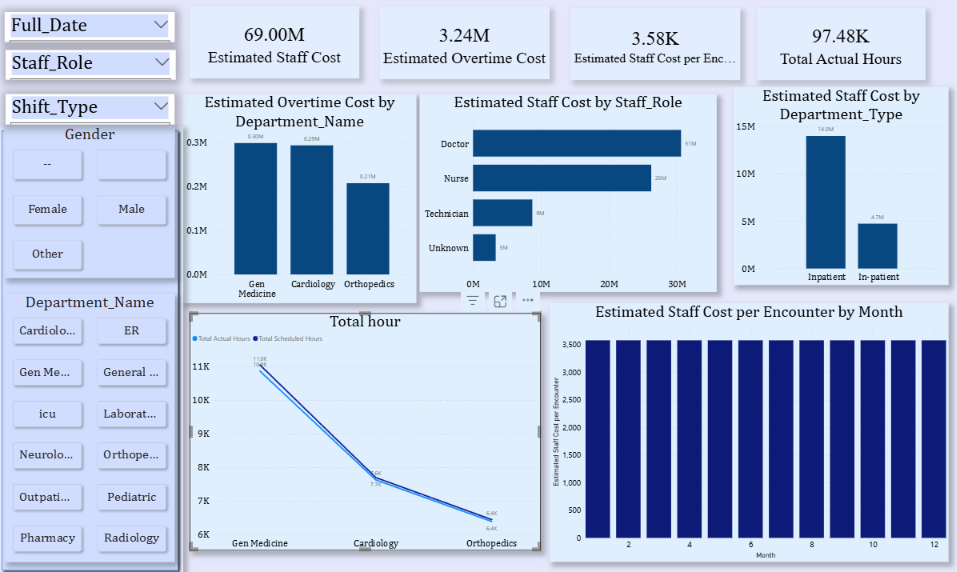

The dashboard page shown, as its layout file describes it:
{"tool":"powerbi","page":{"name":"Page Financial & Operational Performance","canvas":[2000,1200],"ordinal":4},"visuals":[{"type":"card","fields":{"Values":["healthcare bed_occupancy_clean.Estimated Staff Cost"]},"box":[398.7,20,351.9,149.2],"z":8000},{"type":"card","fields":{"Values":["healthcare bed_occupancy_clean.Estimated Overtime Cost"]},"box":[792.9,22.3,351.9,149.2],"z":9000},{"type":"card","fields":{"Values":["healthcare bed_occupancy_clean.Estimated Staff Cost per Encounter"]},"box":[1187.1,24.5,351.9,149.2],"z":10000},{"type":"card","fields":{"Values":["healthcare bed_occupancy_clean.Total Actual Hours"]},"box":[1574.6,24.5,349.7,149.2],"z":11000},{"type":"clusteredColumnChart","fields":{"Category":["healthcare departments_clean.Department_Type"],"Y":["healthcare bed_occupancy_clean.Estimated Staff Cost"]},"box":[1525.9,188.7,445.8,410.5],"z":12000},{"type":"clusteredColumnChart","fields":{"Category":["healthcare departments_clean.Department_Name"],"Y":["healthcare bed_occupancy_clean.Estimated Overtime Cost"]},"box":[383.6,203.2,485.1,433.3],"z":13000},{"type":"clusteredColumnChart","fields":{"Category":["healthcare calendar_clean.Month"],"Y":["healthcare bed_occupancy_clean.Estimated Staff Cost per Encounter"]},"box":[1144.4,636.5,827.2,537],"z":14000},{"type":"shape","box":[0,269.5,383.8,930.5],"z":15000},{"type":"slicer","fields":{"Values":["healthcare calendar_clean.Full_Date"]},"box":[14.5,33.2,352.5,62.2],"z":18000},{"type":"advancedSlicerVisual","fields":{"Values":["healthcare departments_clean.Department_Name"]},"box":[14.5,617.8,352.5,555.6],"z":20000},{"type":"advancedSlicerVisual","fields":{"Values":["healthcare patients_clean.Gender"]},"box":[14.5,269.5,352.5,315.1],"z":22000},{"type":"slicer","fields":{"Values":["healthcare staff_clean.Staff_Role"]},"box":[17.5,111.7,352.7,61.3],"z":23000},{"type":"slicer","fields":{"Values":["healthcare staffing_requirements_clean.Shift_Type"]},"box":[17.5,203.7,350.5,63.5],"z":24000},{"type":"clusteredBarChart","fields":{"Category":["healthcare staff_clean.Staff_Role"],"Y":["healthcare bed_occupancy_clean.Estimated Staff Cost"]},"box":[874.9,203.2,615.8,410.5],"z":25000},{"type":"lineChart","title":"Total hour","fields":{"Category":["healthcare departments_clean.Department_Name"],"Y":["healthcare bed_occupancy_clean.Total Actual Hours","healthcare bed_occupancy_clean.Total Scheduled Hours"]},"box":[398.1,657.2,727.7,493.4],"z":26000}]}

Visuals, with their boxes in screenshot pixels (x1, y1, x2, y2), scaled from the page's 2000x1200 canvas onto the 957x572 screenshot:
card - healthcare bed_occupancy_clean.Estimated Staff Cost: (191, 10, 359, 81)
card - healthcare bed_occupancy_clean.Estimated Overtime Cost: (379, 11, 548, 82)
card - healthcare bed_occupancy_clean.Estimated Staff Cost per Encounter: (568, 12, 736, 83)
card - healthcare bed_occupancy_clean.Total Actual Hours: (753, 12, 921, 83)
clusteredColumnChart - healthcare departments_clean.Department_Type x healthcare bed_occupancy_clean.Estimated Staff Cost: (730, 90, 943, 286)
clusteredColumnChart - healthcare departments_clean.Department_Name x healthcare bed_occupancy_clean.Estimated Overtime Cost: (184, 97, 416, 303)
clusteredColumnChart - healthcare calendar_clean.Month x healthcare bed_occupancy_clean.Estimated Staff Cost per Encounter: (548, 303, 943, 559)
shape: (0, 128, 184, 571)
slicer - healthcare calendar_clean.Full_Date: (7, 16, 176, 45)
advancedSlicerVisual - healthcare departments_clean.Department_Name: (7, 294, 176, 559)
advancedSlicerVisual - healthcare patients_clean.Gender: (7, 128, 176, 279)
slicer - healthcare staff_clean.Staff_Role: (8, 53, 177, 82)
slicer - healthcare staffing_requirements_clean.Shift_Type: (8, 97, 176, 127)
clusteredBarChart - healthcare staff_clean.Staff_Role x healthcare bed_occupancy_clean.Estimated Staff Cost: (419, 97, 713, 293)
"Total hour" lineChart: (190, 313, 539, 548)
